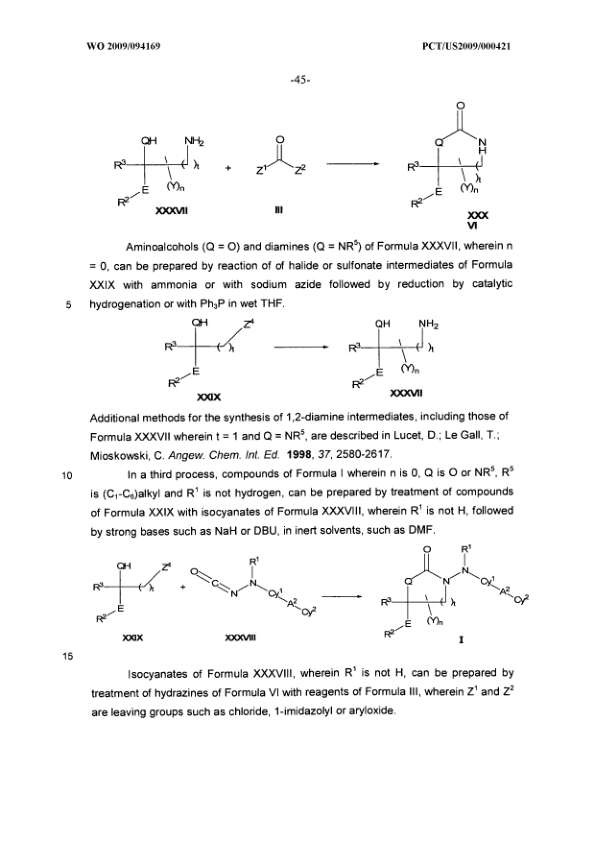compound-structure: (377, 540, 531, 639), (108, 117, 203, 226), (187, 552, 323, 627), (343, 310, 451, 404), (406, 98, 496, 210), (159, 313, 255, 390), (92, 550, 172, 636), (251, 129, 307, 180)
reaction: (75, 97, 544, 236), (76, 541, 537, 652), (113, 310, 480, 404)
reaction-arrow: (272, 343, 333, 353), (318, 592, 364, 601), (323, 160, 387, 166)
